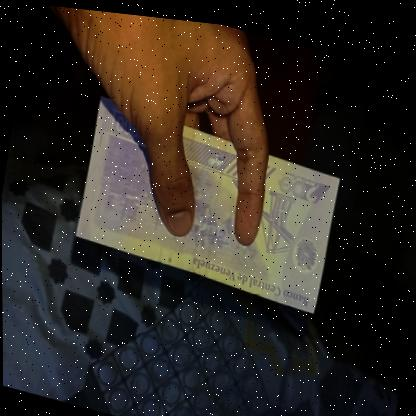two_hundred-back-vef: (71, 89, 343, 310)
